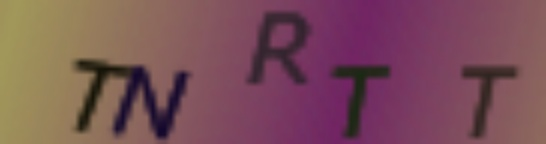N: (109, 65, 192, 140)
R: (247, 8, 319, 89)
T: (444, 62, 522, 143), (325, 60, 395, 144), (65, 59, 135, 135)
